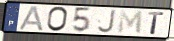5: (71, 6, 93, 35)
A: (18, 5, 45, 32)
J: (96, 9, 117, 35)
M: (117, 10, 144, 36)
O: (46, 6, 69, 33)
T: (147, 11, 165, 36)
